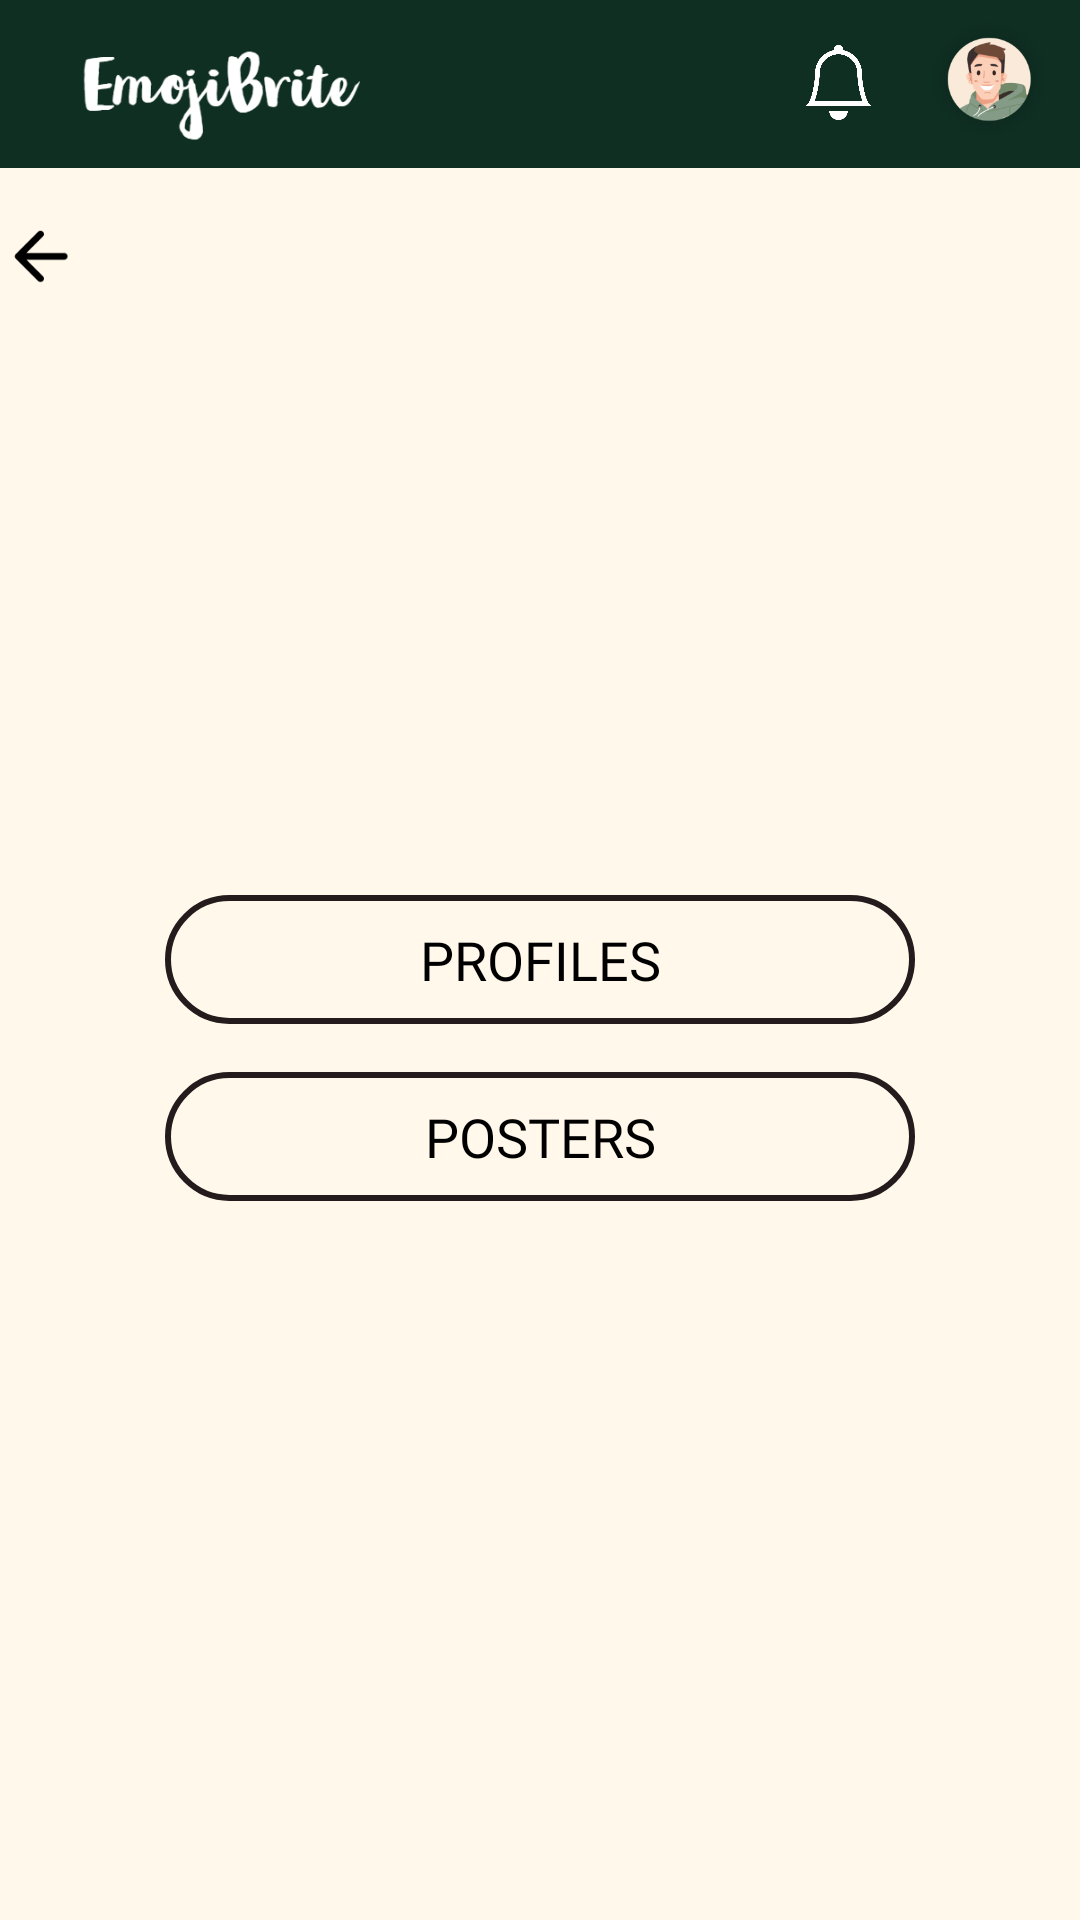

Named icons in this screenshot (1080*1920) and their bounding boxes, (x1, y1, x2, y2):
back arrow: (14, 230, 68, 283)
bi bell: (806, 45, 871, 120)
profile pic: (947, 38, 1031, 121)
